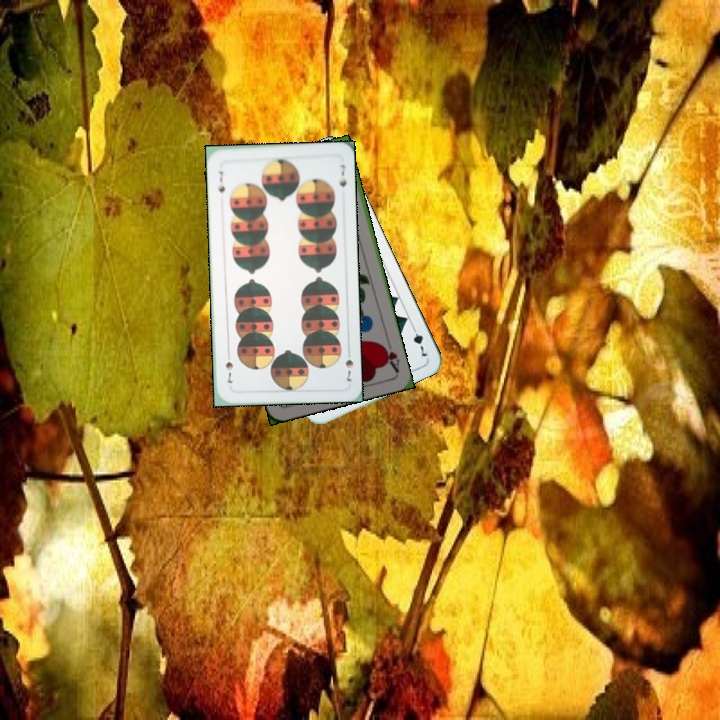G7: (408, 321, 430, 359)
HA: (378, 335, 402, 375)
S7: (341, 345, 356, 384), (214, 167, 227, 195)
